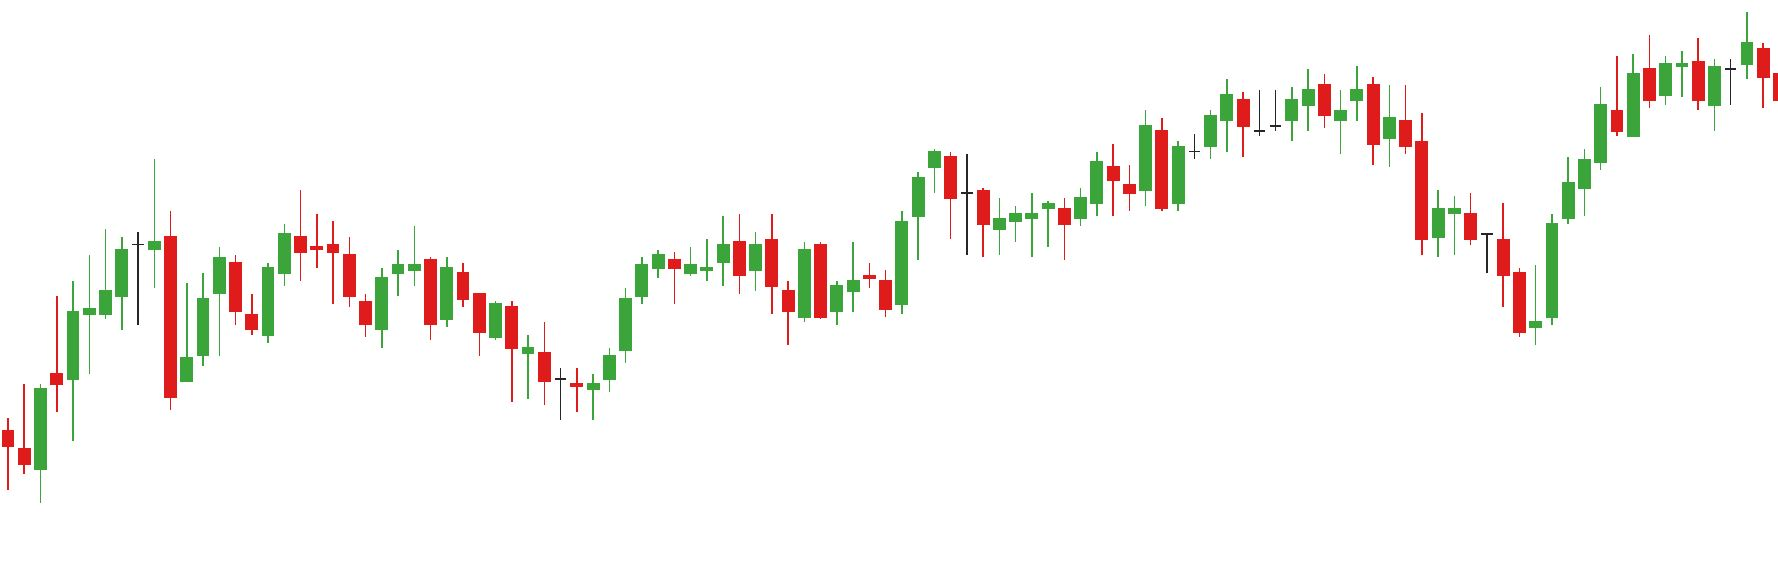buy: (669, 242, 812, 348)
sell: (213, 191, 310, 323)
